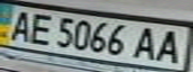0: (69, 18, 93, 52)
5: (51, 15, 75, 49)
6: (106, 21, 133, 57), (87, 19, 112, 55)
A: (151, 27, 190, 64), (0, 8, 39, 43), (130, 25, 163, 61)
E: (24, 11, 57, 46)
